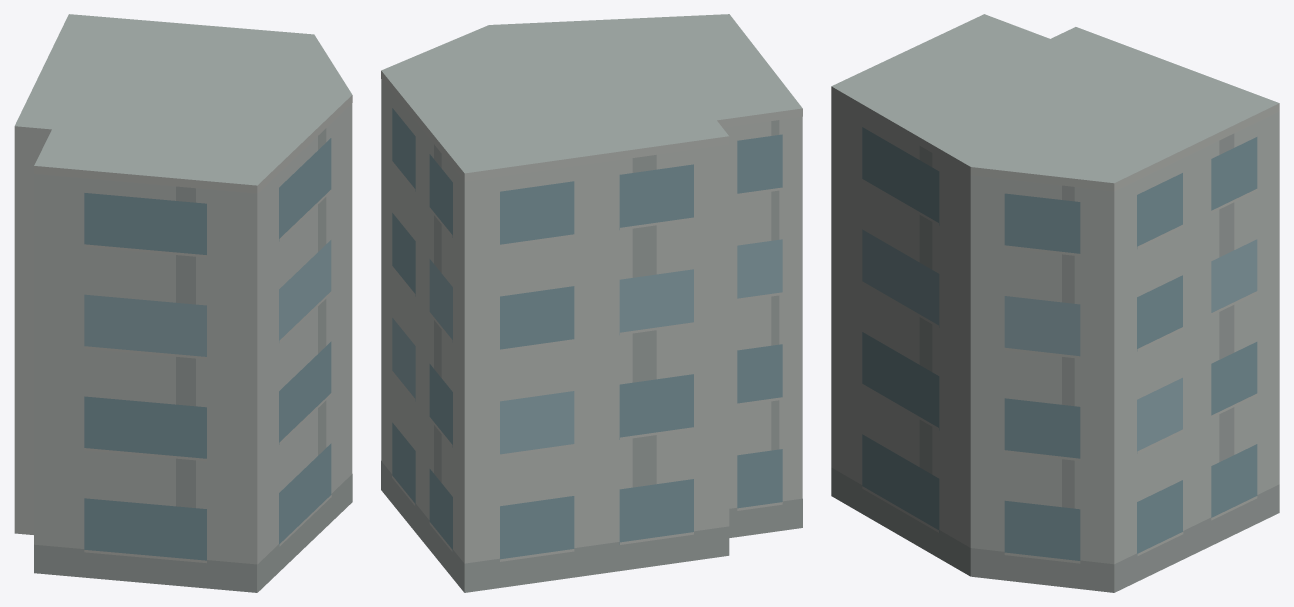
File: residential-76ff087f-a20d-49e7-93fb-a16f45b3261e.glb
3 views of the same model, side by side, from view 1: azimuth 30°, elevation 25°; view 2: azimuth 150°, elevation 25°; view 3: azimuth 270°, elevation 25° (orthographic). The views are drawn at different scales.
Parts seen in each view (by area): view 1: residential-76ff087f-a20d-49e7-93fb-a16f45b3261e.tmp; view 2: residential-76ff087f-a20d-49e7-93fb-a16f45b3261e.tmp; view 3: residential-76ff087f-a20d-49e7-93fb-a16f45b3261e.tmp.
Boxes of the visible parts, x1,y1,x2,y2 form: residential-76ff087f-a20d-49e7-93fb-a16f45b3261e.tmp: [14, 14, 352, 592]; residential-76ff087f-a20d-49e7-93fb-a16f45b3261e.tmp: [381, 14, 802, 592]; residential-76ff087f-a20d-49e7-93fb-a16f45b3261e.tmp: [831, 14, 1279, 592].
Bounding box in the file's own units: 10.82 × 12.2 × 12.11.
